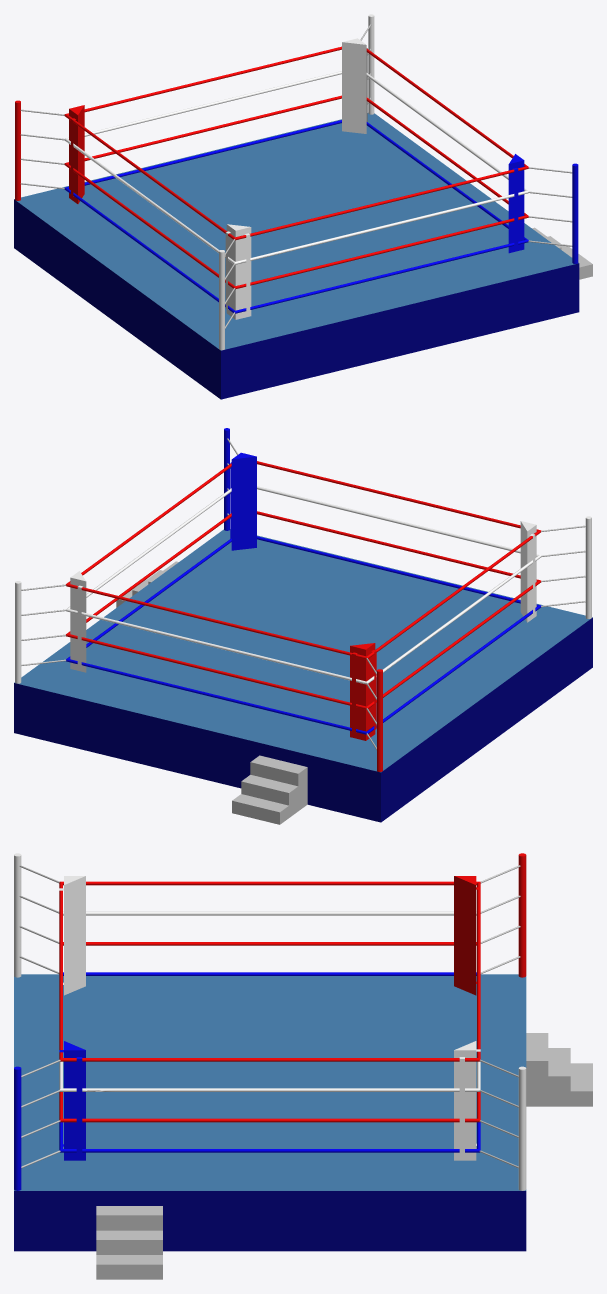
The model's file is ring.obj.
3 renders of one model, top to bottom at view 1: azimuth 30°, elevation 25°; view 2: azimuth 150°, elevation 25°; view 3: azimuth 270°, elevation 25°, orthographic. The views are drawn at different scales.
Visible parts, largest first — view 1: Mesh7 Model, Mesh9 Model, Mesh13 Model, Mesh18 Model, Mesh14 Model, Mesh11 Model, Mesh15 Model, Mesh5 Component_4_1 Model; view 2: Mesh7 Model, Mesh9 Model, Mesh6 Component_4_2 Model, Mesh14 Model, Mesh11 Model, Mesh18 Model, Mesh13 Model, Mesh15 Model; view 3: Mesh7 Model, Mesh9 Model, Mesh5 Component_4_1 Model, Mesh6 Component_4_2 Model, Mesh11 Model, Mesh18 Model, Mesh13 Model, Mesh14 Model, Mesh15 Model, Mesh2 Component_1_2 Model.
Part boxes in pixels (box(x1,y1,x2,y2)): Mesh7 Model: box(14, 14, 579, 399); Mesh9 Model: box(20, 24, 572, 313); Mesh13 Model: box(342, 38, 366, 133); Mesh18 Model: box(226, 224, 251, 319); Mesh14 Model: box(508, 154, 524, 253); Mesh11 Model: box(69, 105, 84, 203); Mesh15 Model: box(572, 165, 578, 263); Mesh5 Component_4_1 Model: box(532, 227, 592, 279); Mesh7 Model: box(14, 516, 592, 822); Mesh9 Model: box(21, 438, 585, 734); Mesh6 Component_4_2 Model: box(232, 755, 307, 824); Mesh14 Model: box(231, 452, 256, 550); Mesh11 Model: box(350, 643, 375, 740); Mesh18 Model: box(520, 521, 536, 622); Mesh13 Model: box(70, 571, 86, 672); Mesh15 Model: box(224, 430, 229, 530); Mesh7 Model: box(14, 853, 526, 1251); Mesh9 Model: box(19, 865, 520, 1153); Mesh5 Component_4_1 Model: box(96, 1206, 162, 1279); Mesh6 Component_4_2 Model: box(526, 1033, 592, 1106); Mesh11 Model: box(454, 876, 476, 995); Mesh18 Model: box(64, 876, 85, 995); Mesh13 Model: box(454, 1041, 476, 1160); Mesh14 Model: box(64, 1041, 85, 1160); Mesh15 Model: box(14, 1068, 21, 1190); Mesh2 Component_1_2 Model: box(459, 1057, 464, 1153).
Bounding box in the file's own units: 312 × 108 × 312.
